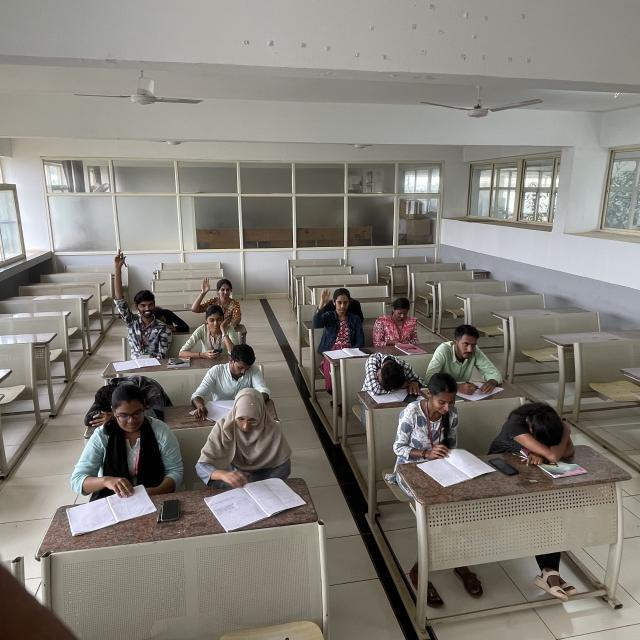Hand Rising: (92, 235, 170, 371), (302, 278, 368, 344), (190, 266, 250, 330)
Reading: (201, 379, 308, 555), (66, 384, 181, 499), (405, 369, 481, 486), (194, 356, 271, 414)
Sleeping: (463, 382, 582, 458), (64, 361, 169, 426), (365, 344, 424, 408)
Using Phone: (362, 287, 422, 356), (176, 298, 239, 360)
Writing: (439, 320, 514, 402)
